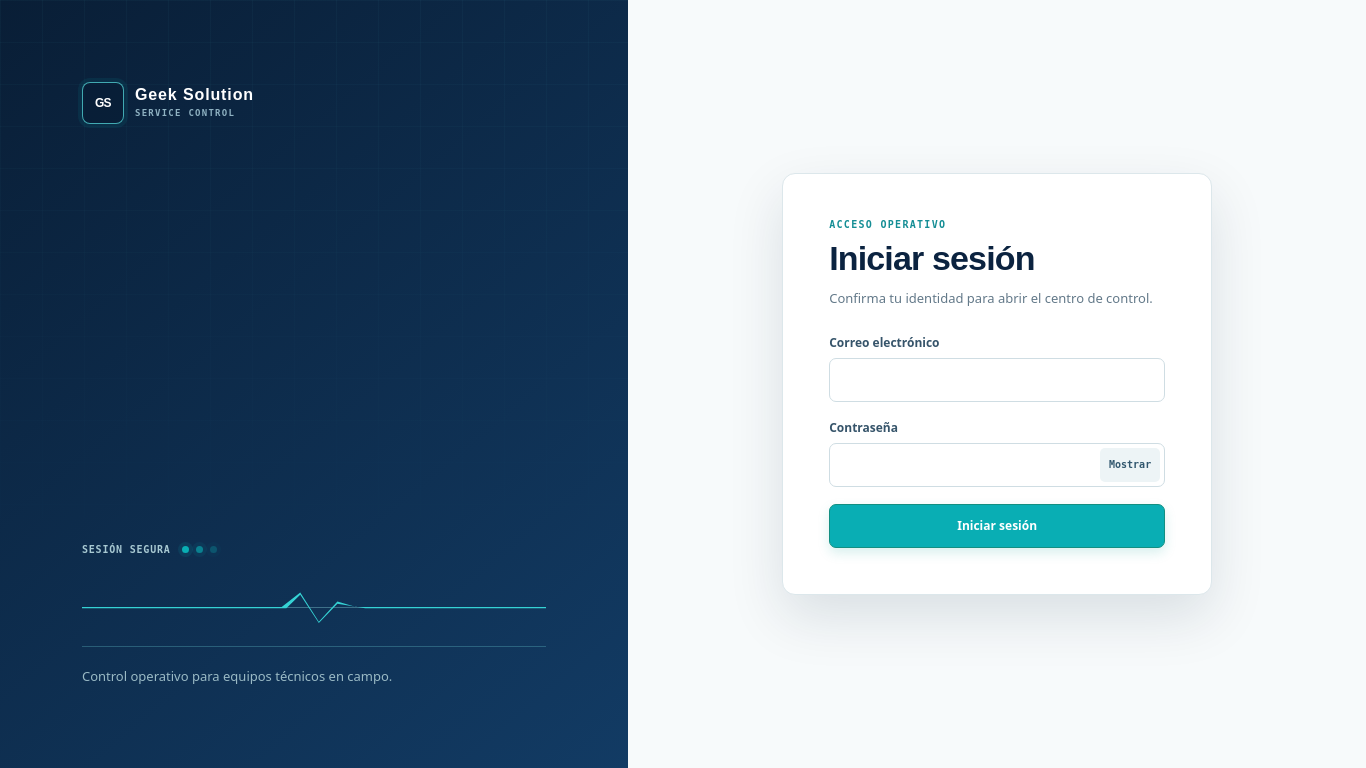
Test: páginas de autenticación › permite revelar una contraseña sin perder su etiqueta accesible
Click the button with aria-label "Mostrar contraseña". click: click(1130, 465)
box: top-left (1100, 448), bottom-right (1160, 482)
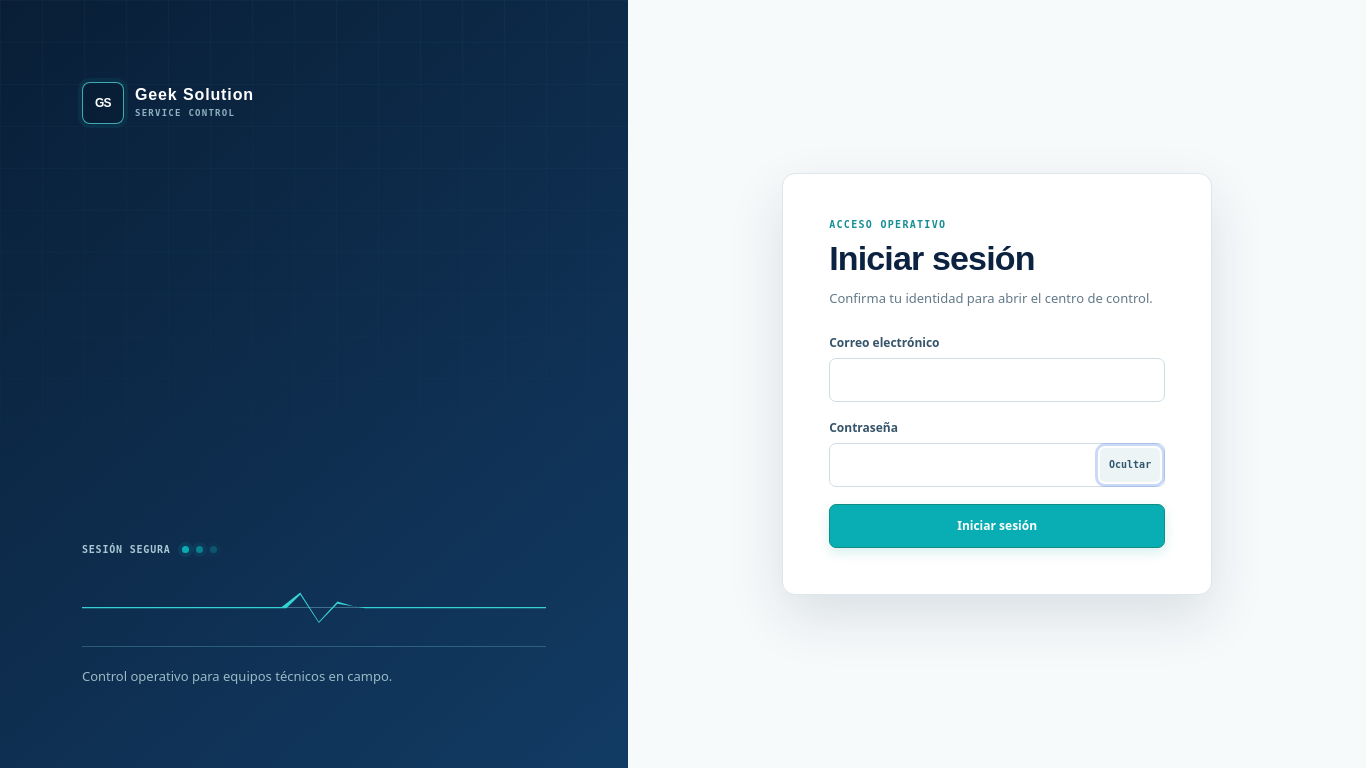
Expected: the button with aria-label "Ocultar contraseña" is shown, top-left (1100, 448), bottom-right (1160, 482)
